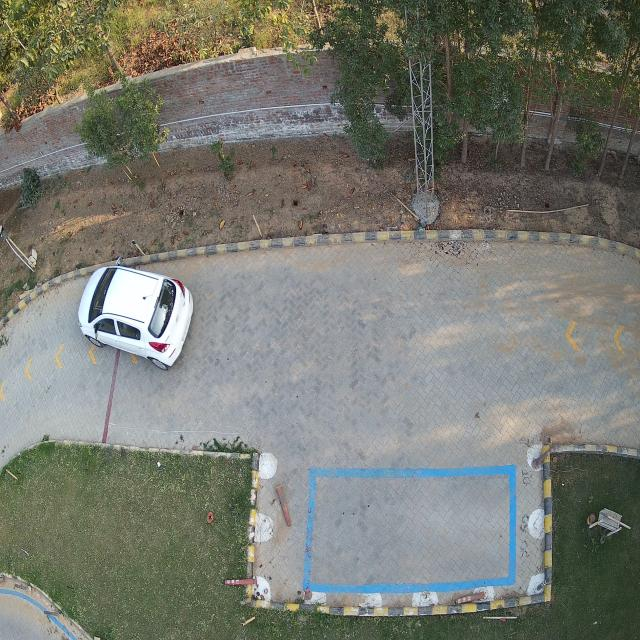car: (78, 265, 194, 370)
